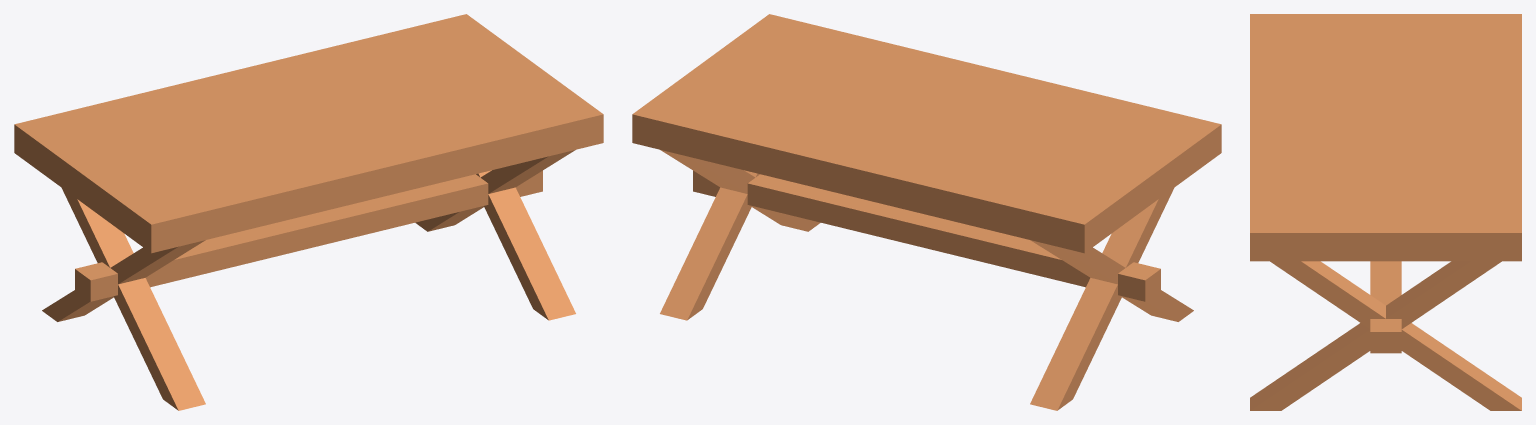
File: Table Cross.glb
The picture shows the model from 3 angles, left to right: view 1: azimuth 30°, elevation 25°; view 2: azimuth 150°, elevation 25°; view 3: azimuth 270°, elevation 25°; orthographic projection.
Visible parts, largest first — view 1: tableCross; view 2: tableCross; view 3: tableCross.
Part boxes in pixels (box(x1,y1,x2,y2)): tableCross: box(14, 14, 603, 410); tableCross: box(632, 14, 1221, 410); tableCross: box(1250, 14, 1521, 410).
Bounding box in the file's own units: 0.8521 × 0.3474 × 0.4474.
